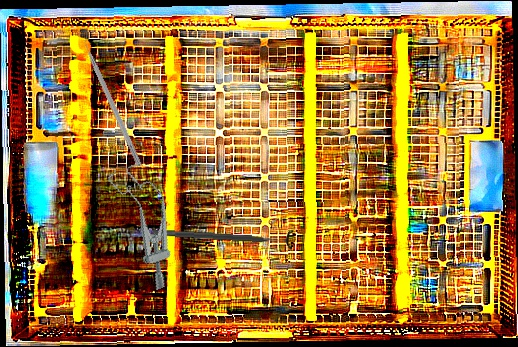Chopper: (78, 29, 150, 168)
Fixation Ring: (152, 221, 294, 251)
Speculum: (105, 157, 192, 294)
